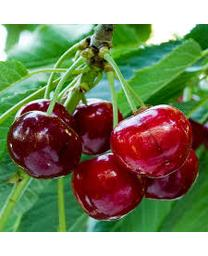cherry: (109, 104, 193, 178), (6, 111, 81, 180), (73, 156, 146, 221), (73, 102, 125, 155)
